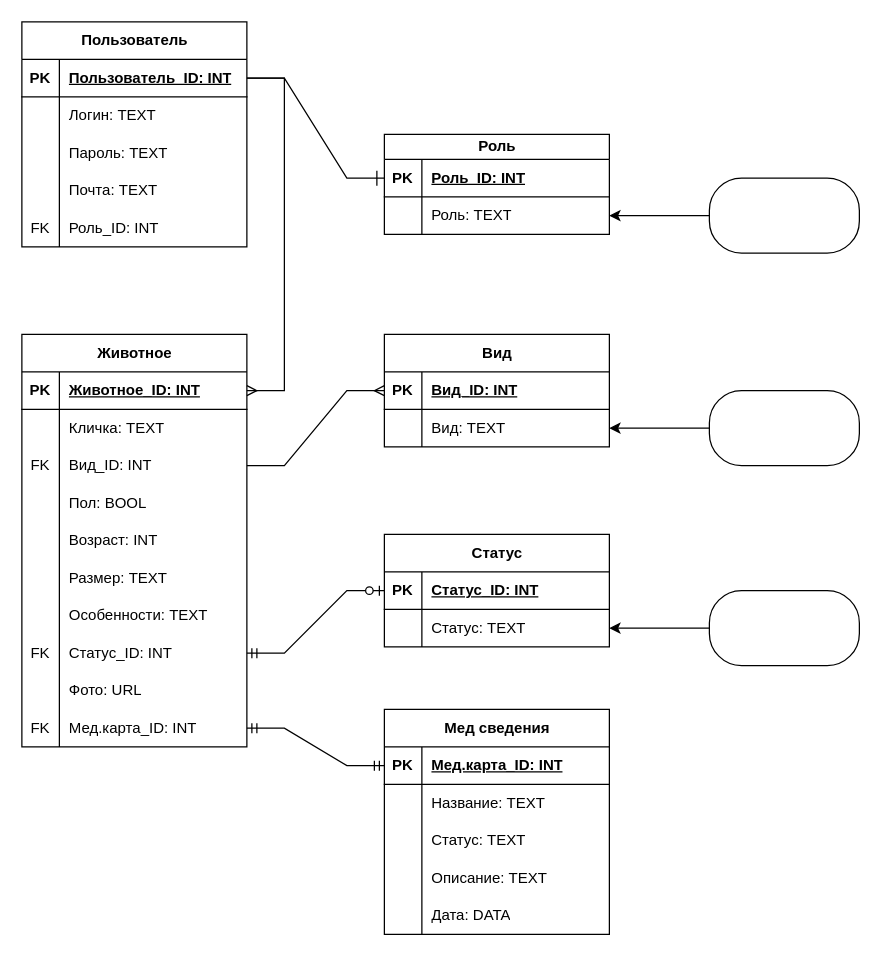
The diagram is 881 pixels wide and 956 high, and some of its shapes have lost their labels. The centre of each missing label's shape, as x and y in pixels:
Админ Гость Работник приюта: pixel 783 215
Доступен На лечении Пристроен: pixel 783 627
Кролик/Кот/Собака/Рыбка и т.д: pixel 783 427
